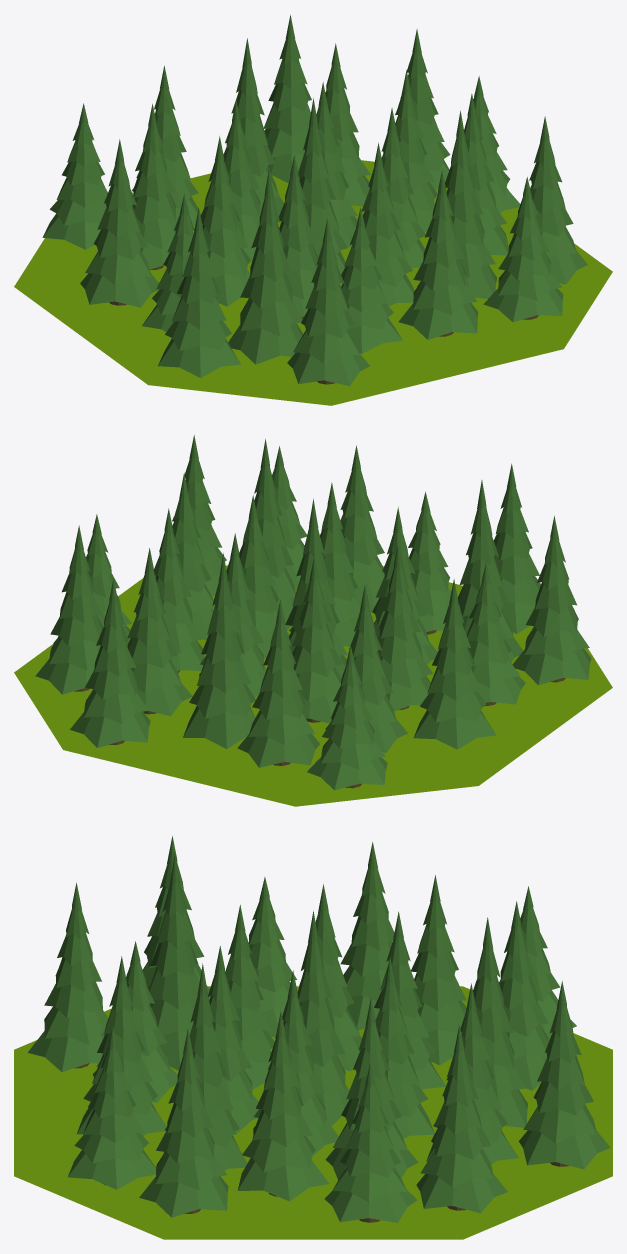
Rendered from forest.fbx.
The picture shows the model from 3 angles, top to bottom: view 1: azimuth 30°, elevation 25°; view 2: azimuth 150°, elevation 25°; view 3: azimuth 270°, elevation 25°; orthographic projection. The views are drawn at different scales.
Visible parts, largest first — view 1: Forest2; view 2: Forest2; view 3: Forest2.
Part boxes in pixels (<box>): Forest2: <box>14,14,612,405</box>; Forest2: <box>14,435,612,806</box>; Forest2: <box>14,835,612,1239</box>.
Bounding box in the file's own units: 400 × 150 × 400.
